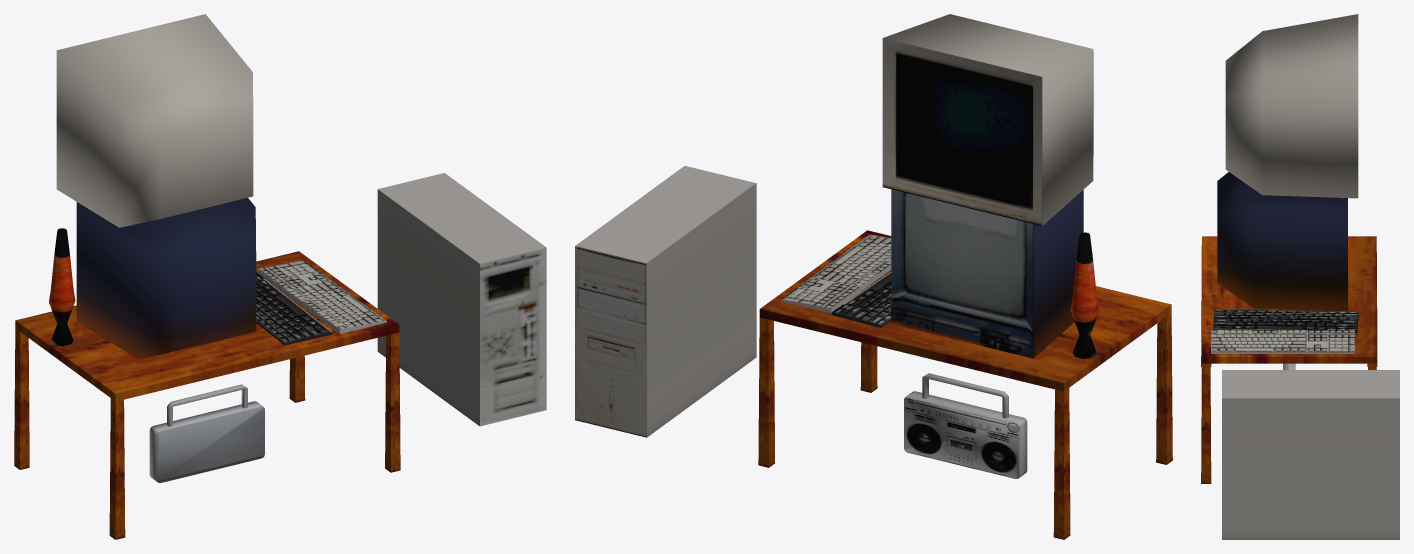
Rendered from PSX_Props.fbx.
3 renders of one model, left to right at view 1: azimuth 30°, elevation 25°; view 2: azimuth 150°, elevation 25°; view 3: azimuth 270°, elevation 25°, orthographic. The views are drawn at different scales.
Parts seen in each view (by area): view 1: Old_Monitor, Computer, Crt_TV, Table, Radio, Keyboard_0, Keyboard_1, Lamp; view 2: Computer, Old_Monitor, Crt_TV, Table, Radio, Keyboard_0, Lamp, Keyboard_1; view 3: Computer, Old_Monitor, Crt_TV, Table, Keyboard_0, Keyboard_1.
Boxes of the visible parts, <box> form: Old_Monitor: <box>56,14,253,227</box>; Computer: <box>377,173,546,426</box>; Crt_TV: <box>76,198,256,358</box>; Table: <box>14,251,400,539</box>; Radio: <box>149,384,264,482</box>; Keyboard_0: <box>257,260,386,333</box>; Keyboard_1: <box>256,272,332,345</box>; Lamp: <box>49,228,75,346</box>; Computer: <box>575,166,756,437</box>; Old_Monitor: <box>882,14,1093,225</box>; Crt_TV: <box>891,189,1083,358</box>; Table: <box>758,230,1172,539</box>; Radio: <box>904,373,1027,478</box>; Keyboard_0: <box>781,234,891,313</box>; Lamp: <box>1070,232,1098,358</box>; Keyboard_1: <box>831,272,891,327</box>; Computer: <box>1222,370,1399,539</box>; Old_Monitor: <box>1225,14,1358,198</box>; Crt_TV: <box>1217,172,1347,311</box>; Table: <box>1201,236,1377,483</box>; Keyboard_0: <box>1211,330,1354,353</box>; Keyboard_1: <box>1213,309,1358,333</box>.
Bounding box in the file's own units: 2.5 × 1.12 × 2.25.
1 material, 1 textured.
